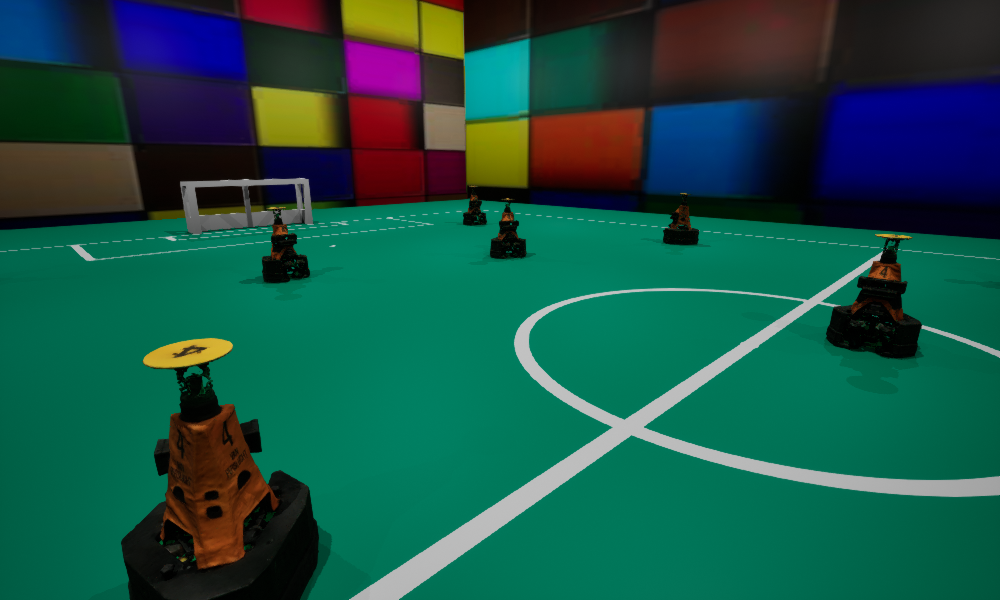o: (121, 338, 318, 599), (826, 234, 921, 357), (262, 207, 309, 282), (490, 198, 526, 258), (663, 193, 698, 244), (463, 186, 486, 225)
